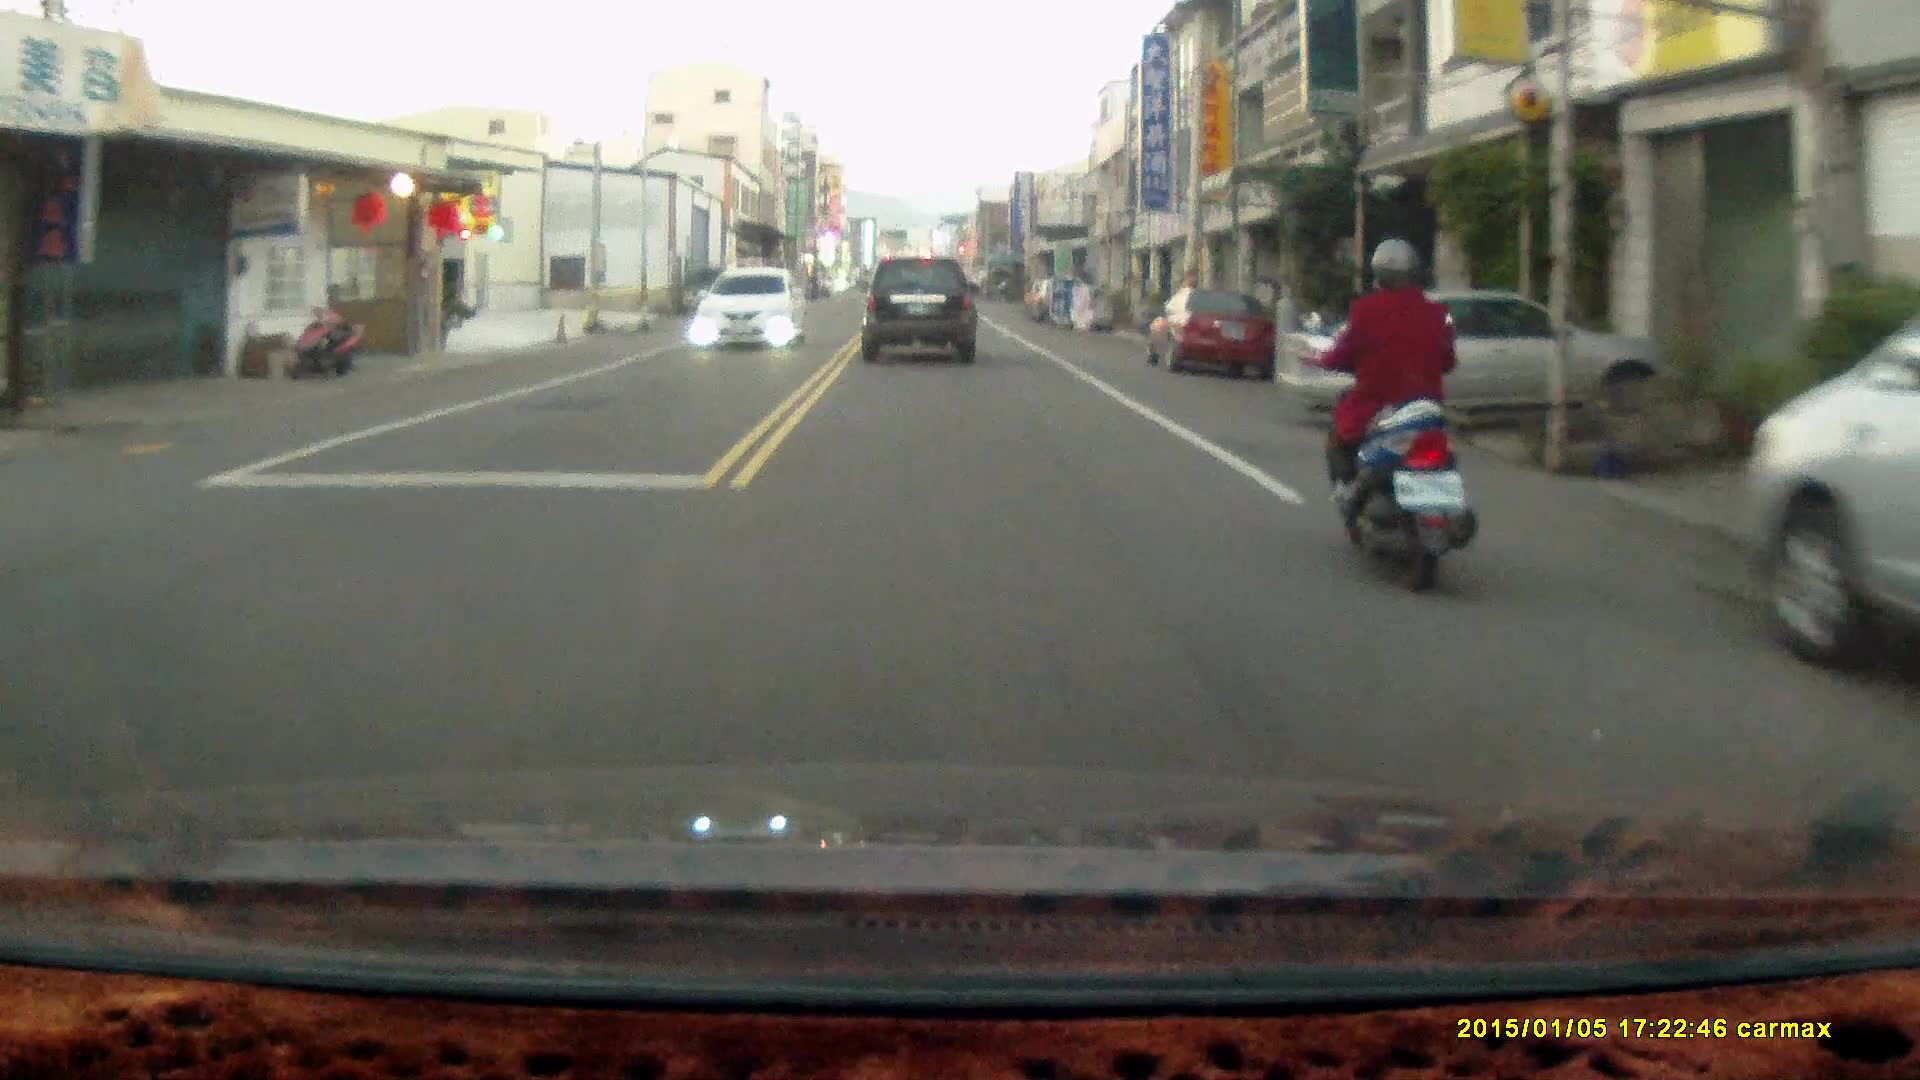rider: (1294, 242, 1477, 602)
vehicle: (1735, 247, 1919, 691), (1285, 286, 1671, 439), (860, 262, 981, 372), (1144, 286, 1276, 383), (693, 268, 810, 352), (678, 268, 744, 321)
